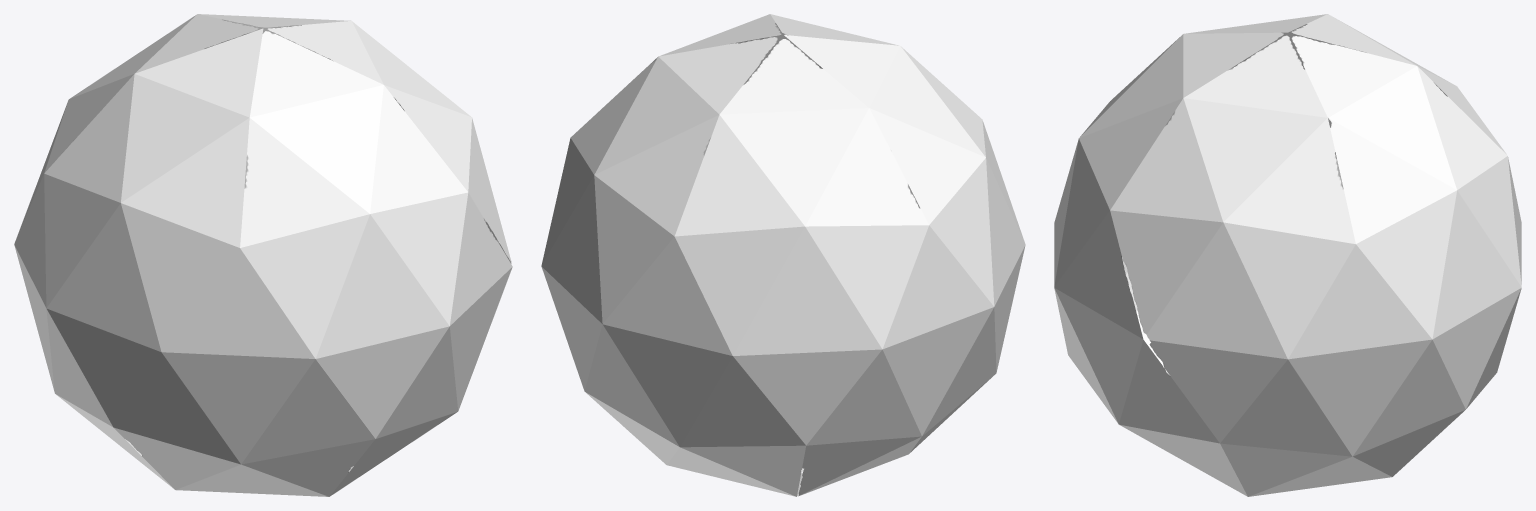
File: playerHead.obj
3 views of the same model, side by side, from view 1: azimuth 30°, elevation 25°; view 2: azimuth 150°, elevation 25°; view 3: azimuth 270°, elevation 25° (orthographic). The views are drawn at different scales.
Parts seen in each view (by area): view 1: 立方体.002; view 2: 立方体.002; view 3: 立方体.002.
Part boxes in pixels (<box>): 立方体.002: <box>14,14,512,496</box>; 立方体.002: <box>541,14,1025,496</box>; 立方体.002: <box>1054,14,1521,496</box>.
Size of the model in its own units: 2 by 2 by 1.9.
Materials: 1 (1 with a texture image).
